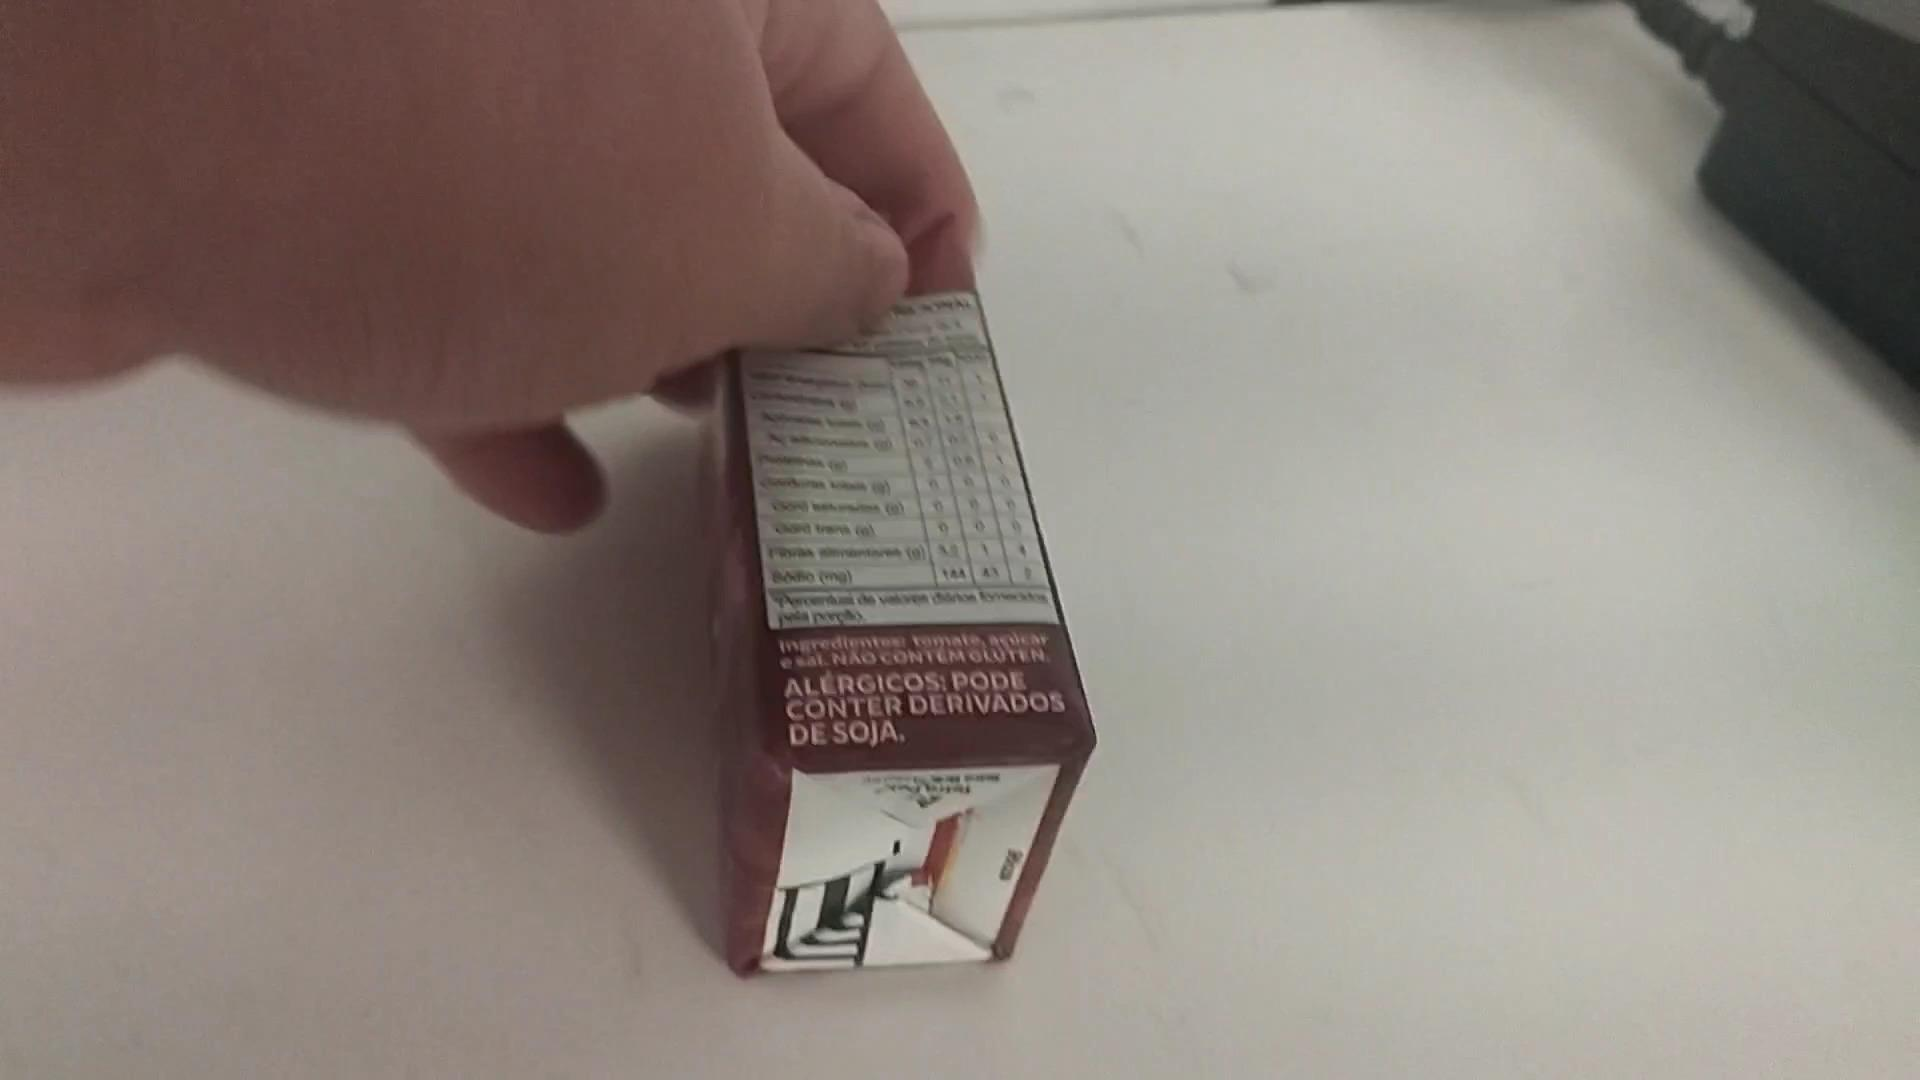tomate: (558, 207, 1110, 978)
